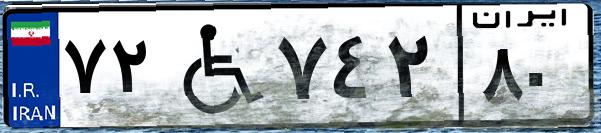0: (525, 38, 570, 115)
2: (385, 28, 445, 110), (110, 28, 158, 98)
4: (330, 28, 385, 110)
7: (270, 28, 330, 110), (57, 26, 110, 100)
8: (475, 38, 525, 113)
ژ (معلولین و جانبازان): (158, 12, 270, 120)
